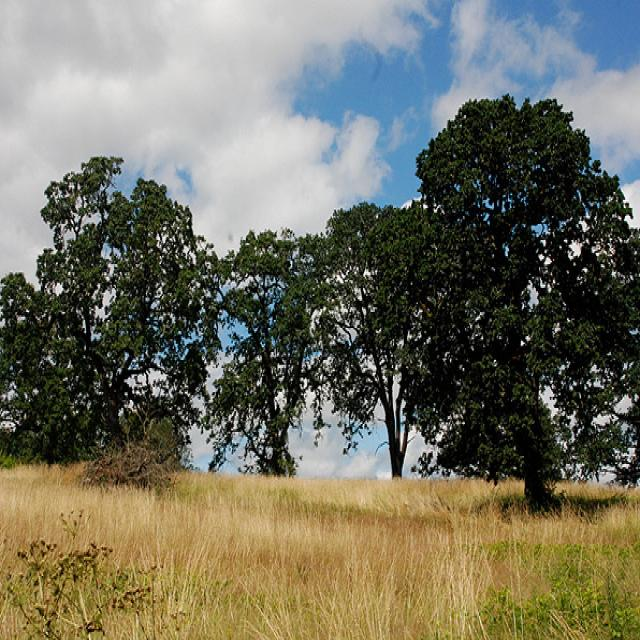Quercus garryana: (0, 156, 237, 471), (304, 201, 528, 479), (208, 226, 381, 480)
